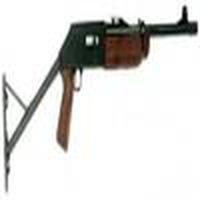gun: (3, 17, 200, 101)
